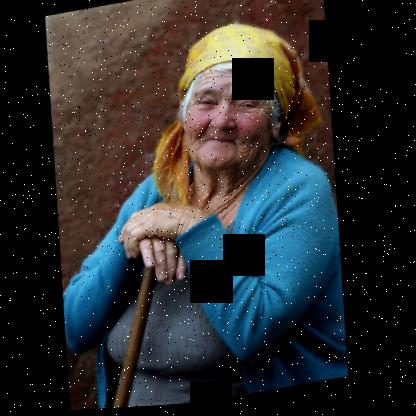Female: (173, 54, 289, 176)
